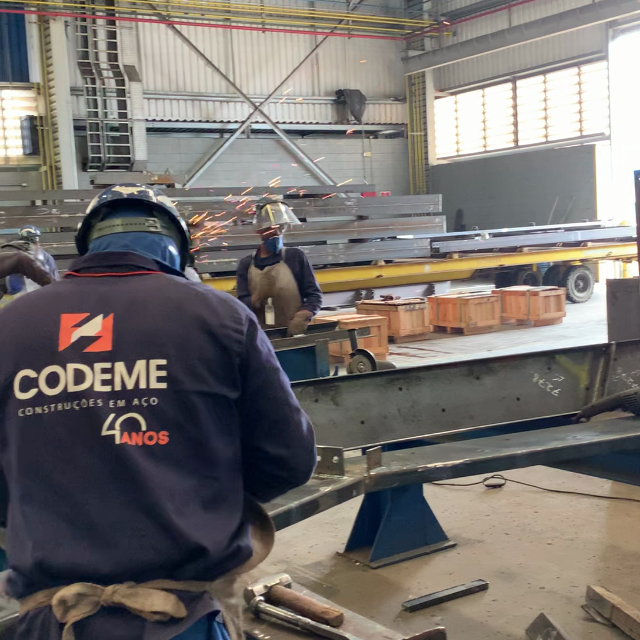face-shield: (252, 201, 305, 235)
glove: (288, 310, 313, 336)
helmet: (75, 184, 193, 265)
person: (3, 183, 317, 640), (236, 200, 327, 337)
